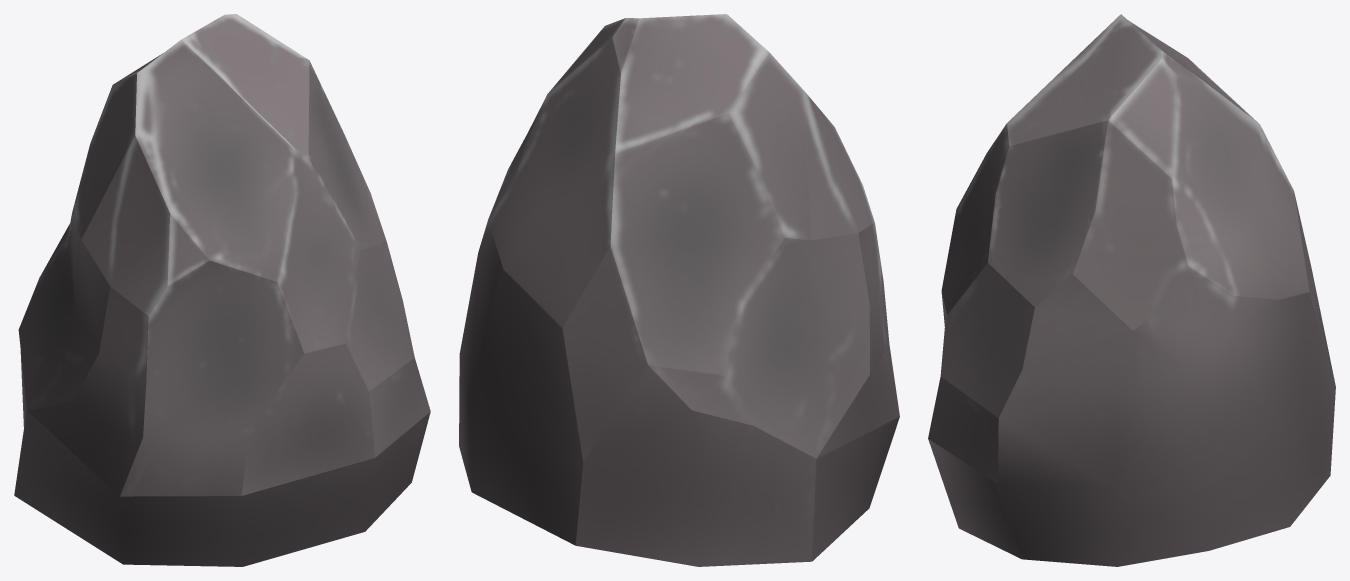
Rendered from ROK0110032.fbx.
The picture shows the model from 3 angles, left to right: view 1: azimuth 30°, elevation 25°; view 2: azimuth 150°, elevation 25°; view 3: azimuth 270°, elevation 25°; orthographic projection. The views are drawn at different scales.
Parts seen in each view (by area): view 1: smROK0110032; view 2: smROK0110032; view 3: smROK0110032.
Part boxes in pixels (left/top/right/bottom): smROK0110032: left=14, top=14, right=430, bottom=566; smROK0110032: left=459, top=14, right=899, bottom=566; smROK0110032: left=928, top=14, right=1335, bottom=566.
Bounding box in the file's own units: 80.83 × 106 × 82.25.
1 material, 1 textured.
